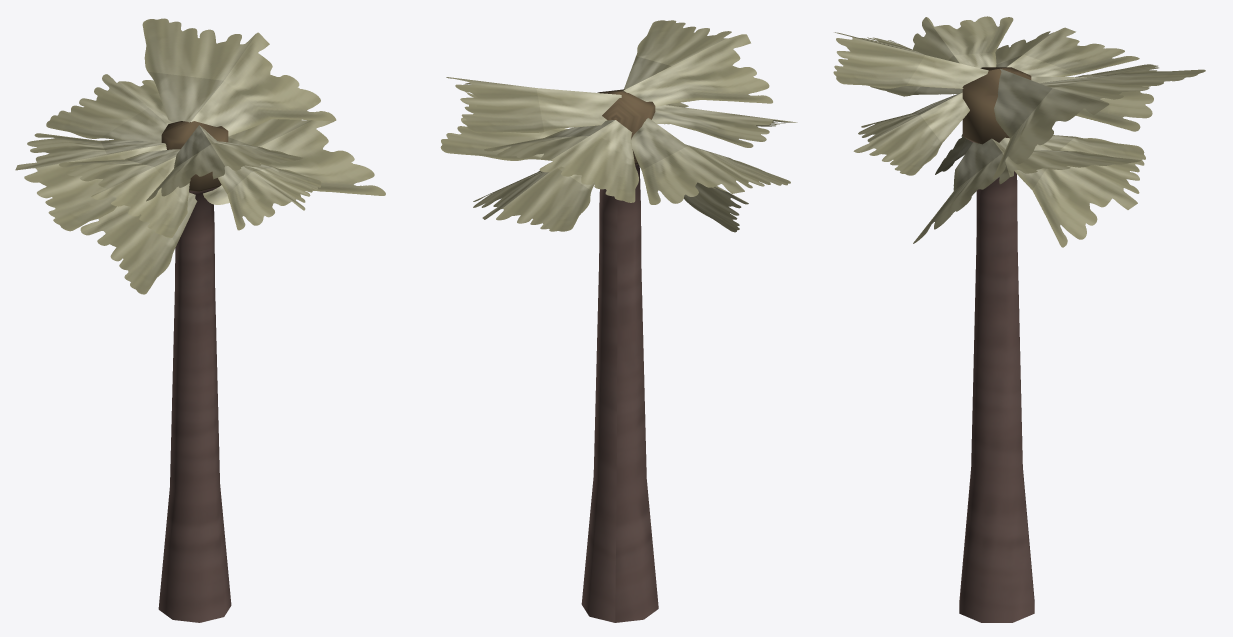
The model's file is ArvoreGrandeCaatinga.fbx.
3 renders of one model, left to right at view 1: azimuth 30°, elevation 25°; view 2: azimuth 150°, elevation 25°; view 3: azimuth 270°, elevation 25°, orthographic. The views are drawn at different scales.
Visible parts, largest first — view 1: FolhasCarnauba; view 2: FolhasCarnauba; view 3: FolhasCarnauba.
Part boxes in pixels (<box>): FolhasCarnauba: <box>15,18,385,622</box>; FolhasCarnauba: <box>440,20,797,622</box>; FolhasCarnauba: <box>833,16,1205,622</box>.
Bounding box in the file's own units: 174 × 272 × 170.
